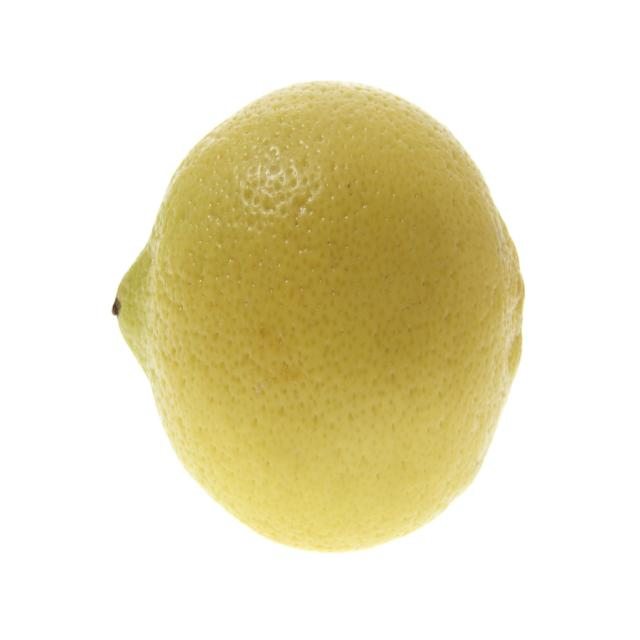lemon: (104, 75, 533, 561)
